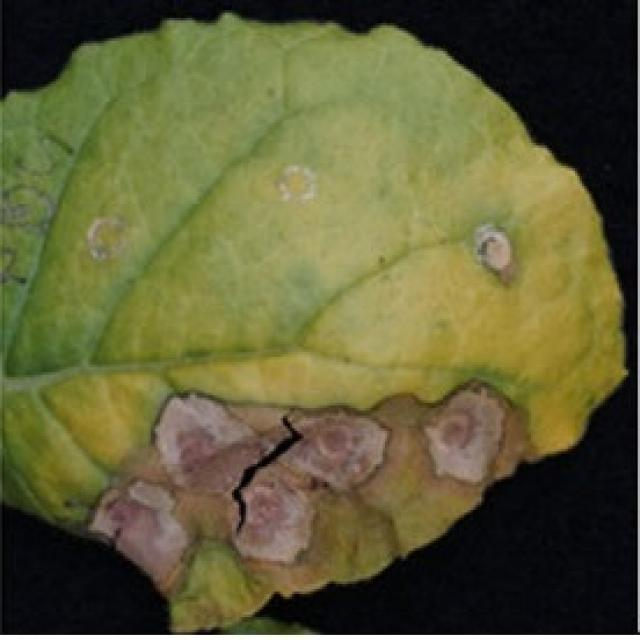Fusarium Wilt: (64, 362, 522, 608)
